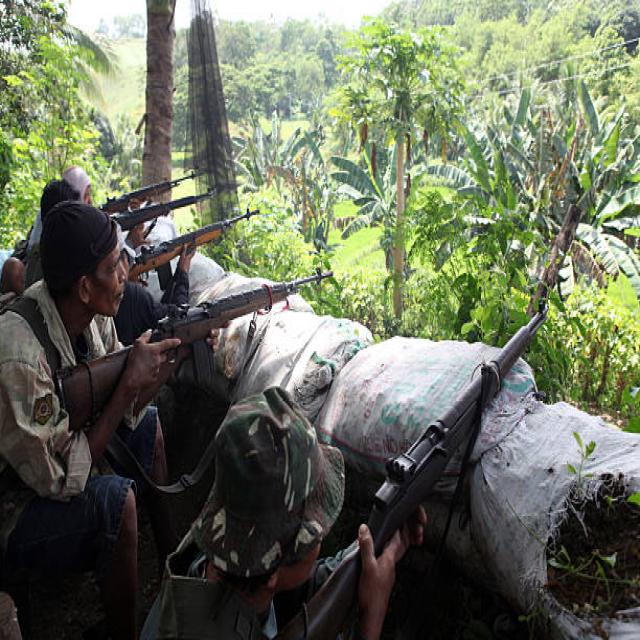soldier: (140, 284, 551, 638)
terrorist: (0, 201, 333, 638)
